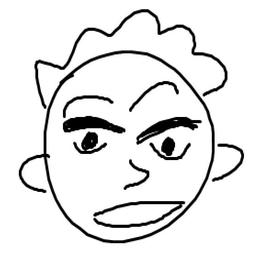ear: (207, 142, 248, 186), (17, 154, 53, 195)
eye: (136, 114, 201, 165), (64, 115, 125, 154)
eyebrow: (57, 91, 119, 116)
frowning_eyebrow: (124, 77, 176, 116)
open_mouth: (87, 195, 185, 234)
pointy_nose: (115, 151, 152, 194)
